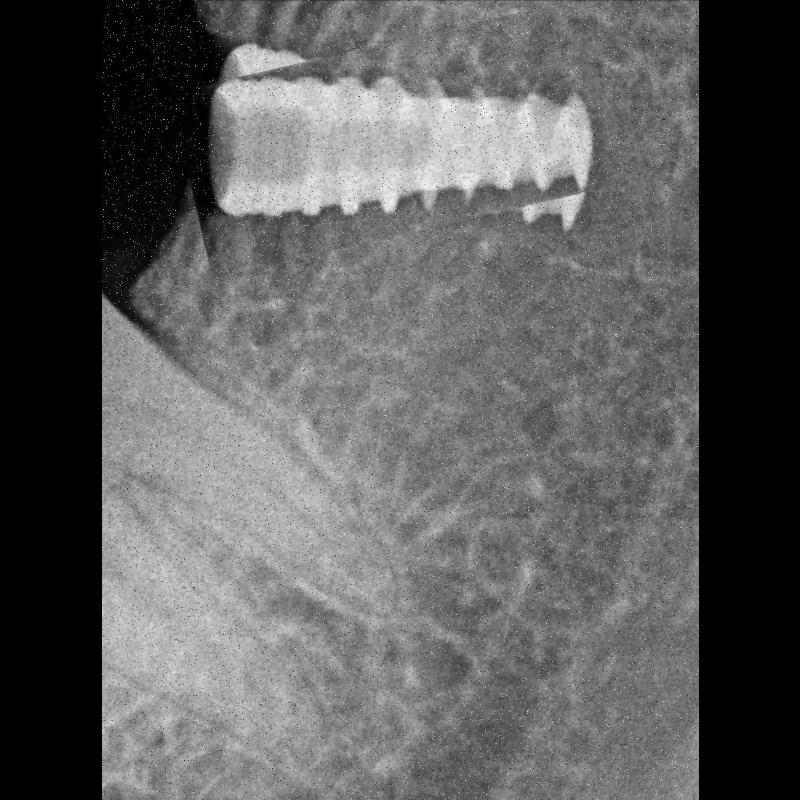ADIN: (178, 21, 610, 256)
